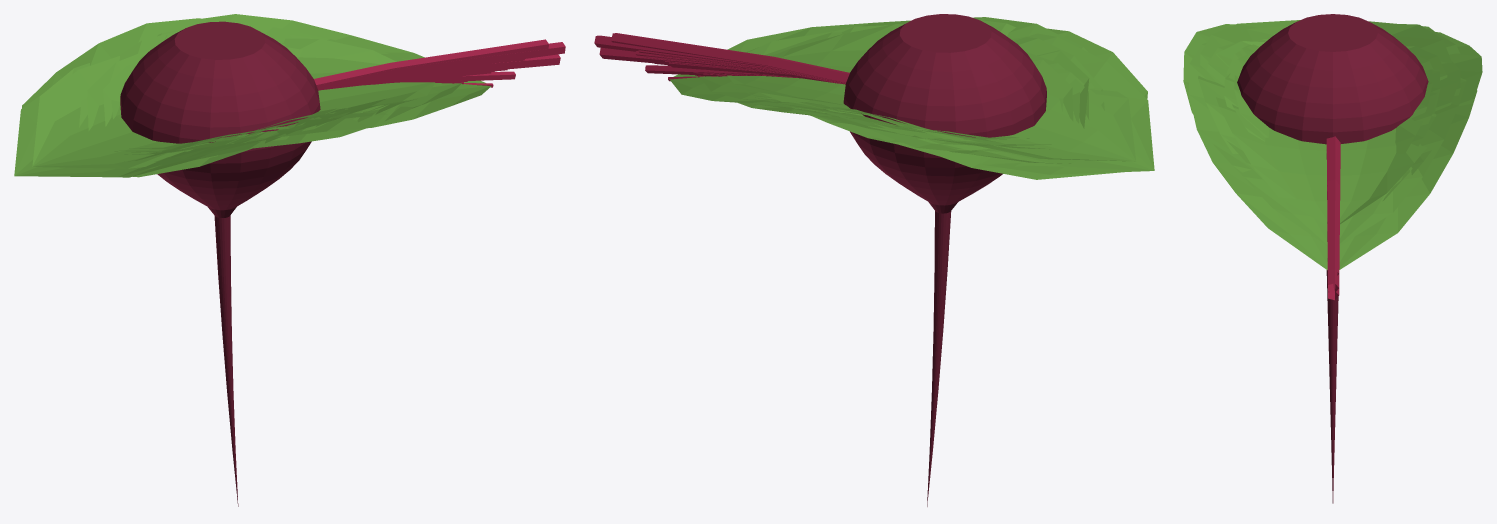
Rendered from beetroot_harvest_v00.articulated.glb.
3 views of the same model, side by side, from view 1: azimuth 30°, elevation 25°; view 2: azimuth 150°, elevation 25°; view 3: azimuth 270°, elevation 25° (orthographic). The views are drawn at different scales.
Visible parts, largest first — view 1: root, leaf09_link2, leaf01_link2, leaf00_link2, leaf05_link2, leaf00_link0, leaf09_link0, leaf04_link2, leaf11_link2, leaf01_link0, leaf12_link2, leaf10_link2 (+1 smaller); view 2: root, leaf09_link2, leaf00_link2, leaf01_link2, leaf05_link2, leaf09_link0, leaf12_link2, leaf07_link2, leaf08_link2, leaf11_link2, leaf00_link0, leaf01_link0 (+3 smaller); view 3: root, leaf09_link2, leaf01_link2, leaf00_link2, leaf05_link2, leaf09_link0, leaf11_link2, leaf03_link2, leaf07_link2, leaf12_link2, leaf06_link2, leaf08_link2 (+4 smaller).
Boxes of the visible parts, x1,y1,x2,y2 form: root: (120,21,320,506); leaf09_link2: (32,38,434,168); leaf01_link2: (137,14,493,168); leaf00_link2: (14,25,463,177); leaf05_link2: (22,18,427,177); leaf00_link0: (316,42,565,90); leaf09_link0: (314,39,548,85); leaf04_link2: (87,48,409,152); leaf11_link2: (39,34,387,177); leaf01_link0: (352,54,560,86); leaf12_link2: (114,30,416,152); leaf10_link2: (103,62,347,147); root: (843,14,1046,506); leaf09_link2: (727,24,1136,161); leaf00_link2: (698,31,1154,174); leaf01_link2: (668,17,1087,166); leaf05_link2: (738,25,1147,179); leaf09_link0: (611,33,849,82); leaf12_link2: (825,32,1089,150); leaf07_link2: (814,37,1102,143); leaf08_link2: (824,53,1073,130); leaf11_link2: (755,20,1070,163); leaf00_link0: (594,35,845,83); leaf01_link0: (599,47,838,83); root: (1237,14,1428,503); leaf09_link2: (1216,23,1452,225); leaf01_link2: (1188,42,1477,269); leaf00_link2: (1200,20,1466,245); leaf05_link2: (1183,24,1482,186); leaf09_link0: (1326,136,1340,275); leaf11_link2: (1198,28,1460,174); leaf03_link2: (1234,44,1422,154); leaf07_link2: (1207,41,1458,111); leaf12_link2: (1216,41,1460,183); leaf06_link2: (1224,73,1436,146); leaf08_link2: (1228,51,1437,125).
Size of the model in its own units: 0.2276 by 0.1876 by 0.1086.
Materials: 1 (1 with a texture image).
